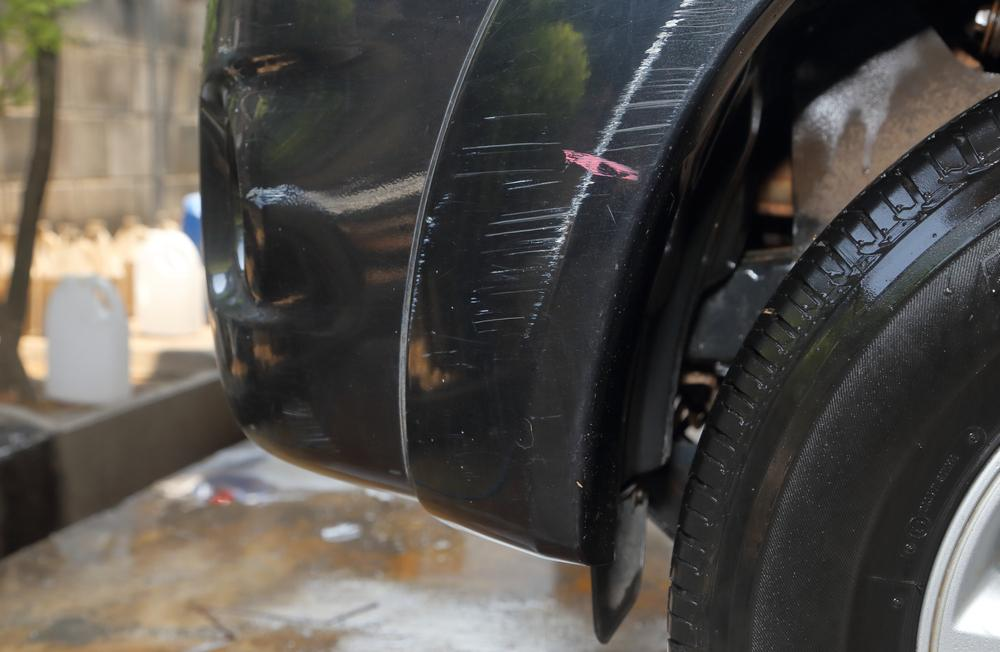dent: (227, 48, 366, 337)
scratch: (404, 0, 763, 348)
